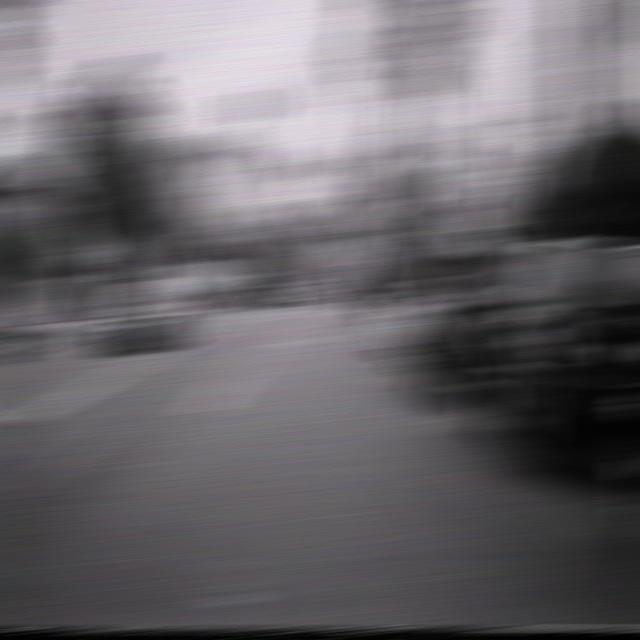pedestrianCrossing: (480, 166, 526, 218)
